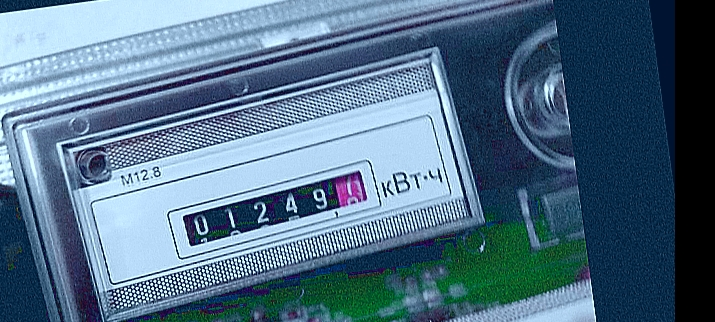0: (187, 209, 209, 237)
1: (218, 204, 237, 231)
2: (248, 197, 271, 226)
4: (279, 187, 300, 217)
7: (337, 172, 355, 198)
9: (307, 184, 329, 211)
screen: (156, 159, 397, 265)
